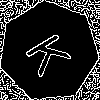K: (24, 26, 80, 79)
